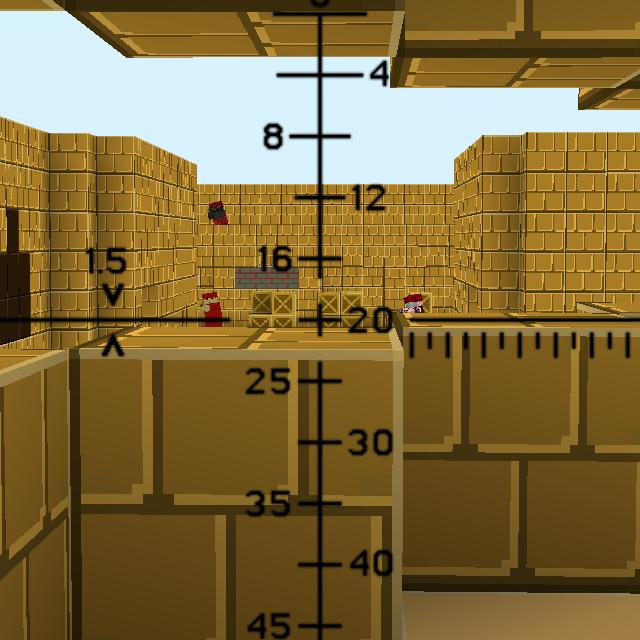enemy: (200, 291, 223, 327), (398, 293, 425, 313), (208, 201, 229, 225)
